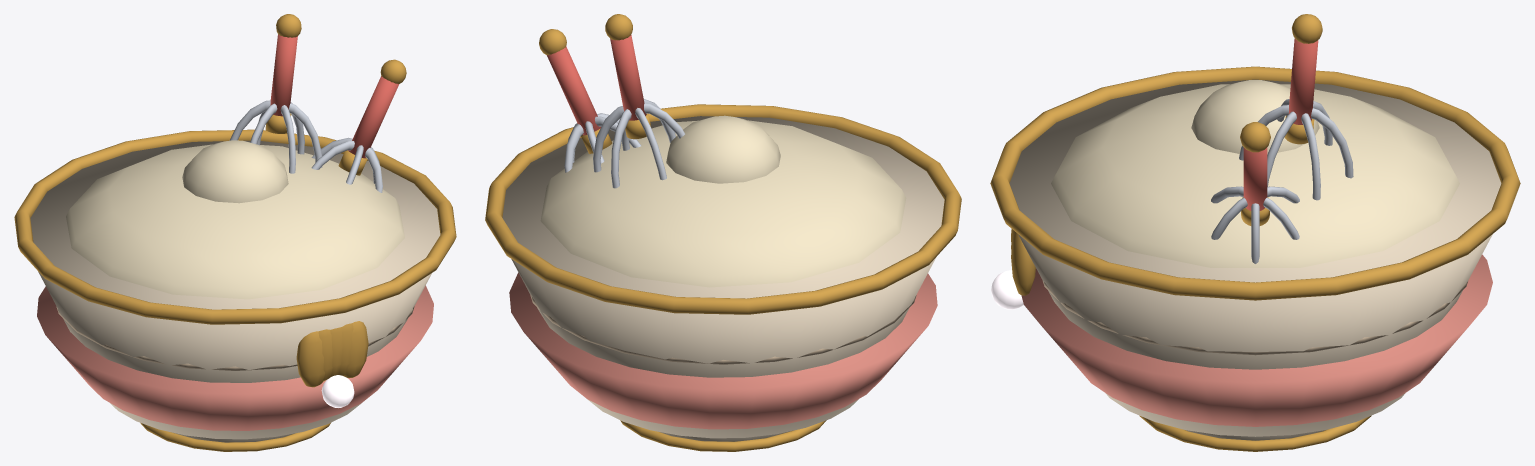
The model's file is opera_pastry_chef_bowl.glb.
3 renders of one model, left to right at view 1: azimuth 30°, elevation 25°; view 2: azimuth 150°, elevation 25°; view 3: azimuth 270°, elevation 25°, orthographic. The views are drawn at different scales.
Parts seen in each view (by area): view 1: VisualMesh.003, StateCompleteMesh, StateActiveMesh, StateIdleMesh; view 2: VisualMesh.003, StateCompleteMesh, StateActiveMesh, StateIdleMesh; view 3: VisualMesh.003, StateCompleteMesh, StateActiveMesh, StateIdleMesh.
Part boxes in pixels (box(x1,y1,x2,y2)): VisualMesh.003: box(14, 129, 456, 451); StateCompleteMesh: box(66, 140, 404, 299); StateActiveMesh: box(229, 14, 322, 173); StateIdleMesh: box(311, 59, 406, 192); VisualMesh.003: box(485, 104, 961, 451); StateCompleteMesh: box(540, 115, 906, 287); StateActiveMesh: box(593, 14, 684, 188); StateIdleMesh: box(539, 29, 641, 172); VisualMesh.003: box(990, 66, 1520, 451); StateCompleteMesh: box(1051, 80, 1459, 267); StateActiveMesh: box(1239, 14, 1353, 200); StateIdleMesh: box(1211, 122, 1299, 263).
Bounding box in the file's own units: 4.42 × 3.96 × 4.42.
